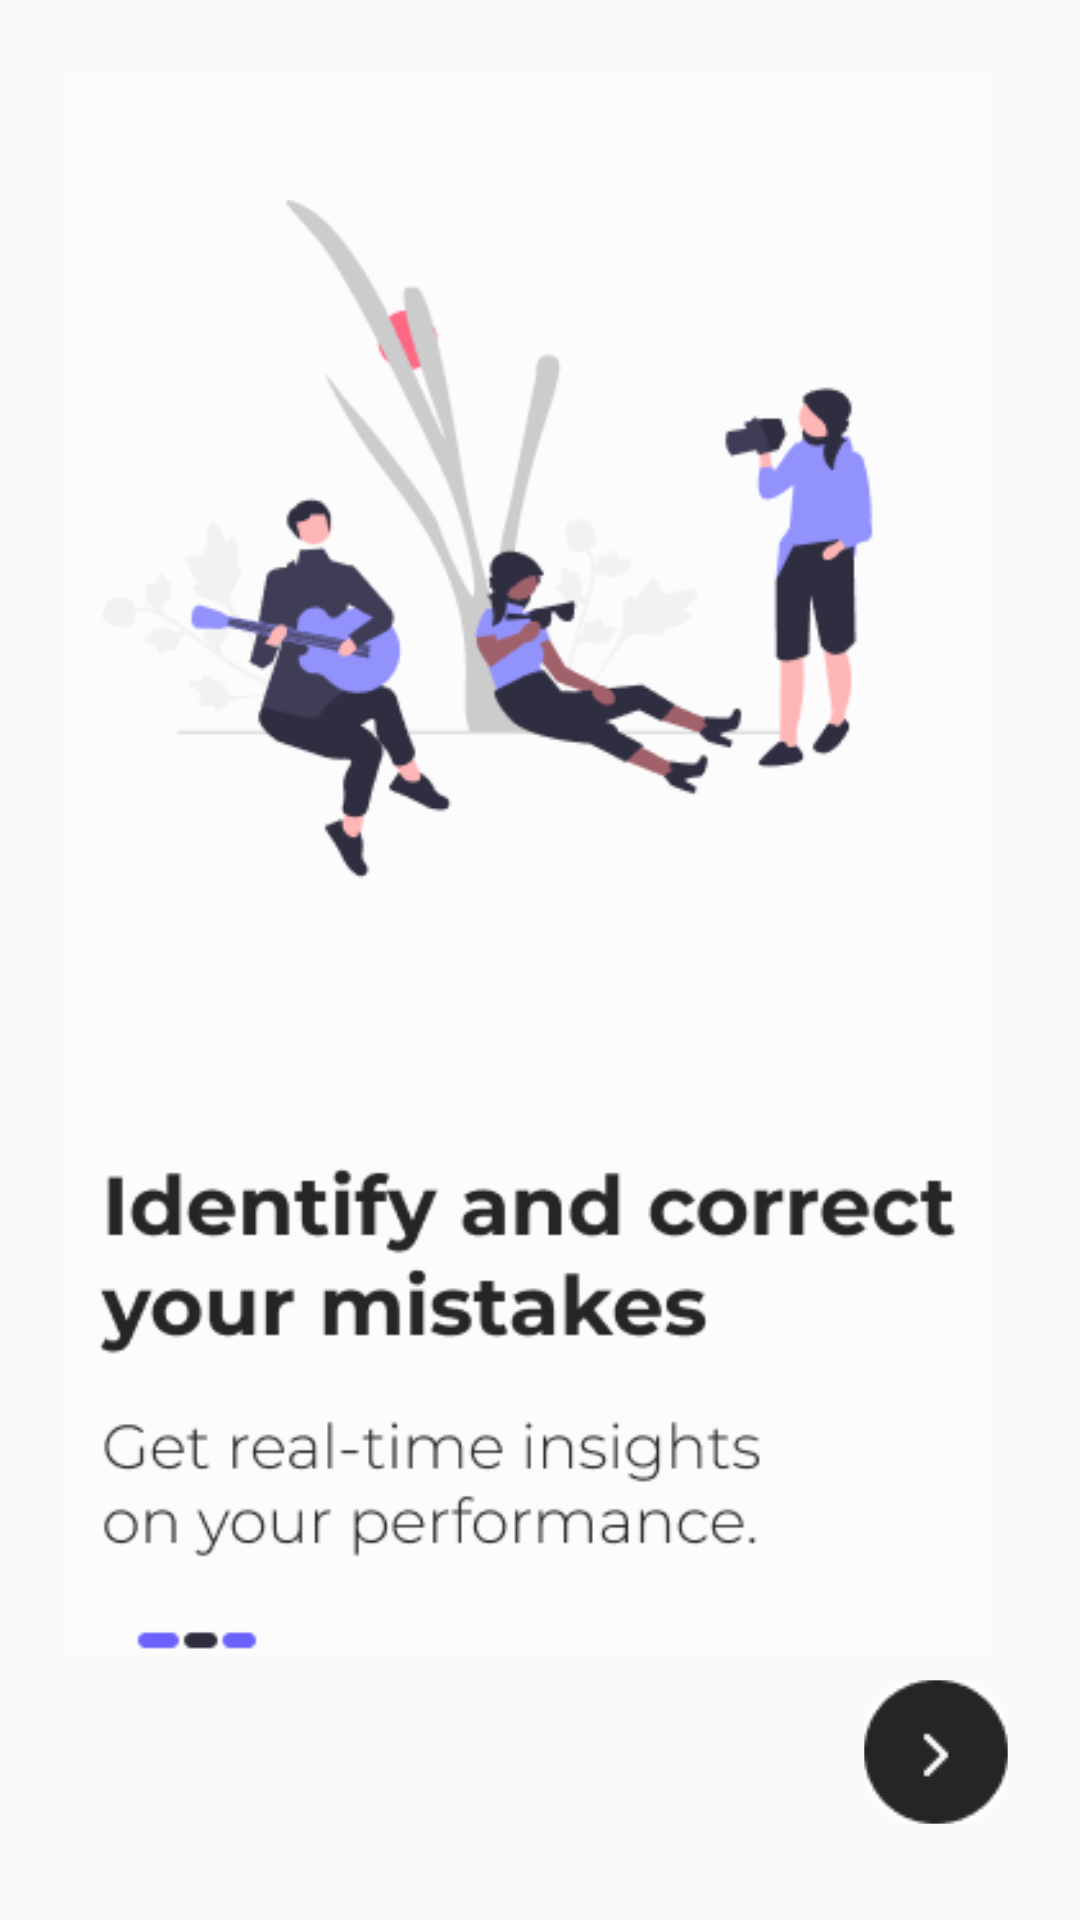

Screen size 1080*1920. Icon name, then its box in pixels as [left=x1, top=y1, right=x2, bottom=y2]:
arrow right: [left=864, top=1680, right=1008, bottom=1824]
